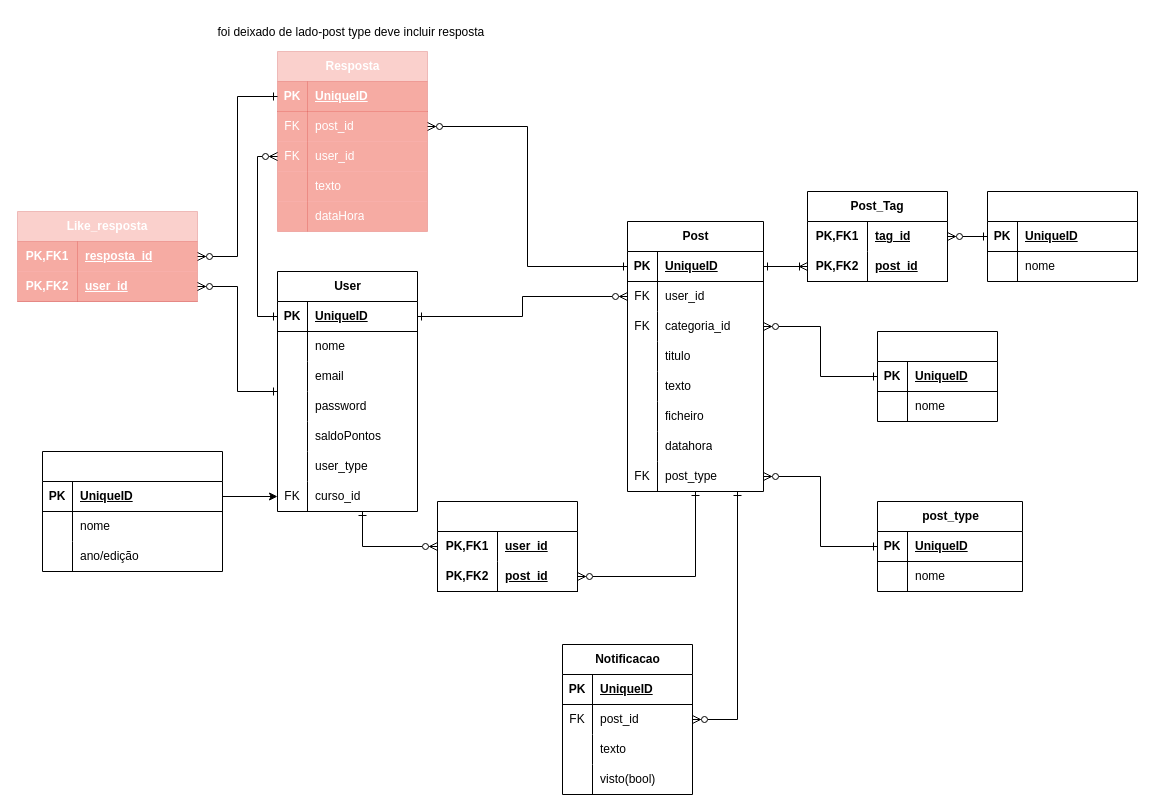
This 1155x812 diagram has some shape labels left out. The box of each missing label's shape, as (x1, y1, x2, y2) in pixels:
Categoria: (876, 330, 998, 422)
Curso: (42, 450, 222, 572)
Like_post: (436, 500, 578, 592)
Tag: (986, 190, 1138, 282)
